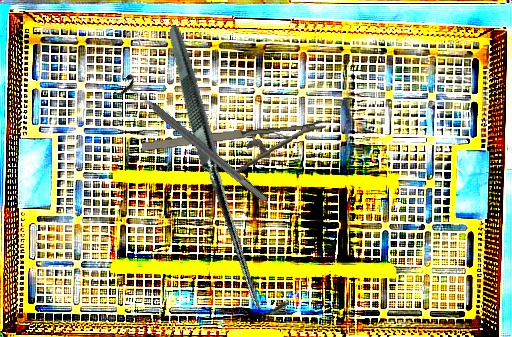Fixation Ring: (112, 72, 275, 211)
Hook Surgical: (83, 24, 371, 319)
Needle Holder: (140, 120, 330, 183)
